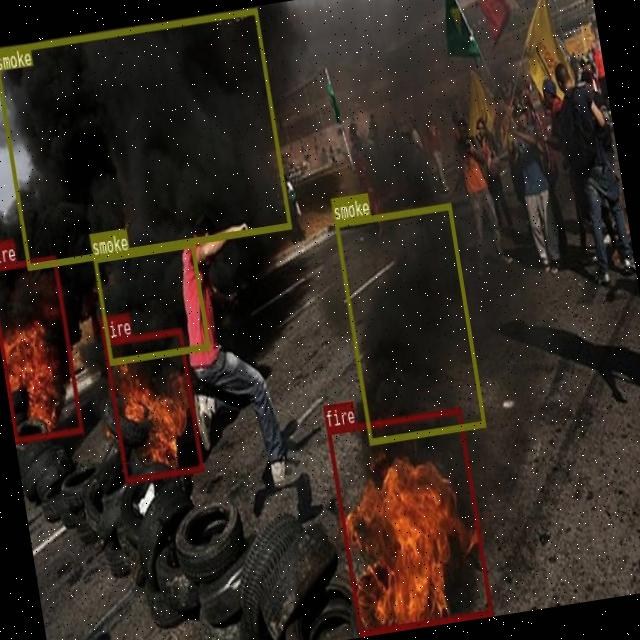fire: (326, 406, 492, 635), (102, 326, 204, 483), (0, 255, 83, 443)
smoke: (0, 6, 292, 269), (334, 202, 486, 444), (92, 240, 210, 364)
